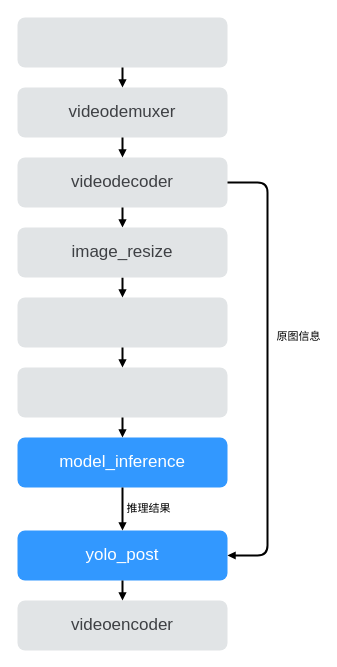
The diagram is 337 pixels wide and 667 high, and some of its shapes have lost their labels. Here are the shapes that lost their labels. From the top down, the centre of each, then its label:
At point (122, 42): "video_input".
At point (122, 322): "image_transpose".
At point (122, 392): "normalize".
